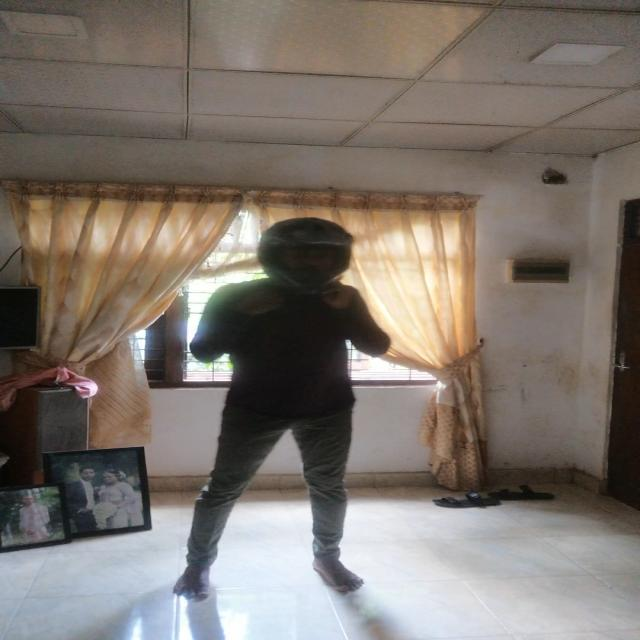Helmet_Wearer: (239, 212, 382, 304)
Person: (179, 213, 403, 596)
